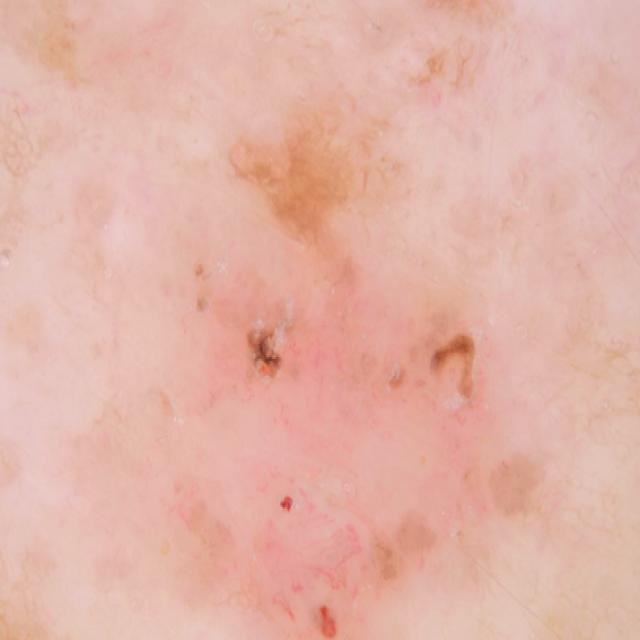Carcinoma: (225, 288, 320, 425), (407, 318, 510, 444), (307, 571, 356, 640)
